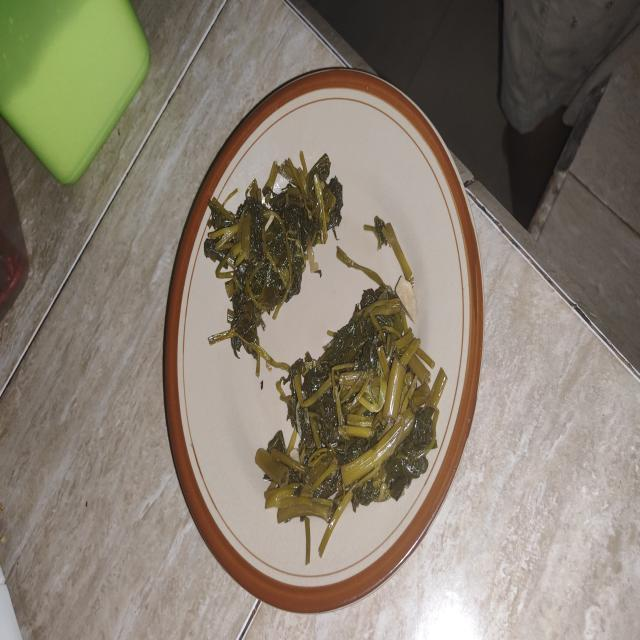tumis_kangkung: (256, 286, 447, 557), (204, 151, 343, 351)
